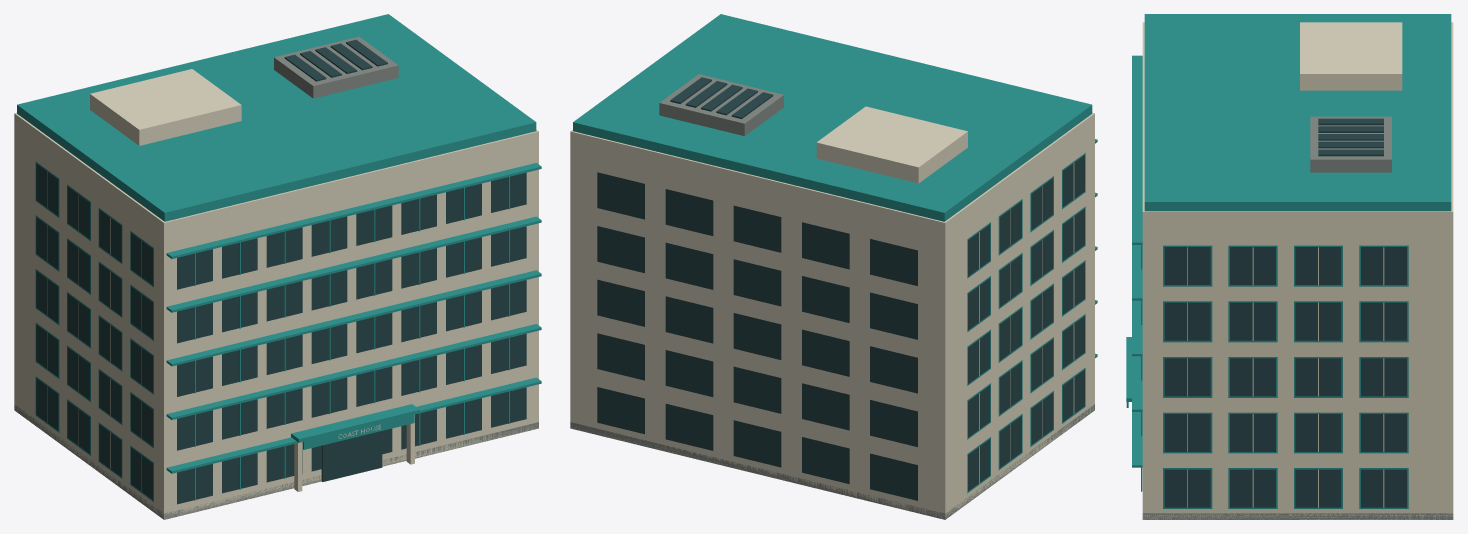
File: KeralaOffice_A.glb
3 renders of one model, left to right at view 1: azimuth 30°, elevation 25°; view 2: azimuth 150°, elevation 25°; view 3: azimuth 270°, elevation 25°, orthographic. The views are drawn at different scales.
Parts seen in each view (by area): view 1: KeralaOffice_A_Warm_Lime_Plaster, KeralaOffice_A_Kerala_Teal_Trim, KeralaOffice_A_Deep_Window_Glass, KeralaOffice_A_Stone_And_Metal; view 2: KeralaOffice_A_Warm_Lime_Plaster, KeralaOffice_A_Deep_Window_Glass, KeralaOffice_A_Kerala_Teal_Trim, KeralaOffice_A_Stone_And_Metal; view 3: KeralaOffice_A_Warm_Lime_Plaster, KeralaOffice_A_Kerala_Teal_Trim, KeralaOffice_A_Deep_Window_Glass, KeralaOffice_A_Stone_And_Metal.
Part boxes in pixels (<box>): KeralaOffice_A_Warm_Lime_Plaster: <box>14,69,538,519</box>; KeralaOffice_A_Kerala_Teal_Trim: <box>17,14,541,501</box>; KeralaOffice_A_Deep_Window_Glass: <box>36,39,526,504</box>; KeralaOffice_A_Stone_And_Metal: <box>14,36,538,519</box>; KeralaOffice_A_Warm_Lime_Plaster: <box>570,106,1094,519</box>; KeralaOffice_A_Deep_Window_Glass: <box>597,77,1084,500</box>; KeralaOffice_A_Kerala_Teal_Trim: <box>573,14,1097,493</box>; KeralaOffice_A_Stone_And_Metal: <box>570,74,1094,519</box>; KeralaOffice_A_Warm_Lime_Plaster: <box>1142,22,1453,519</box>; KeralaOffice_A_Kerala_Teal_Trim: <box>1126,14,1451,508</box>; KeralaOffice_A_Deep_Window_Glass: <box>1164,118,1406,507</box>; KeralaOffice_A_Stone_And_Metal: <box>1142,116,1453,519</box>.
Bounding box in the file's own units: 22 × 18 × 16.
